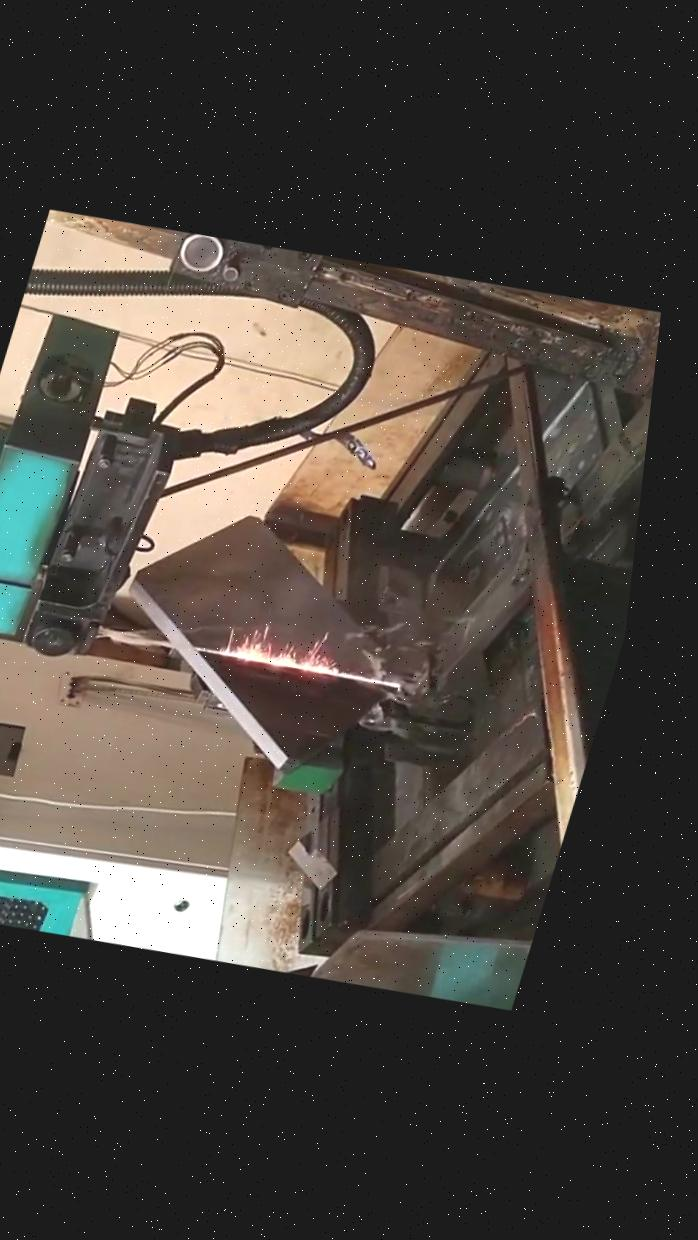fire: (61, 600, 534, 724)
